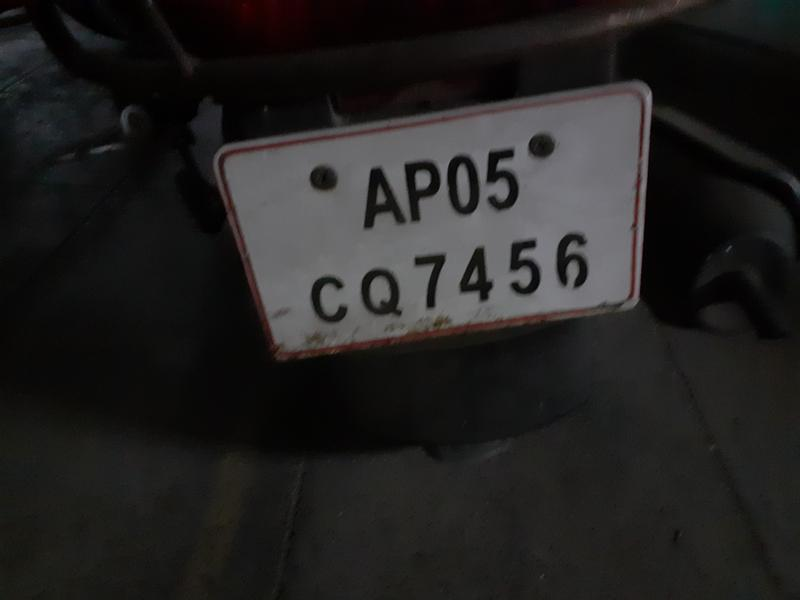numberplate: (219, 126, 672, 358)
